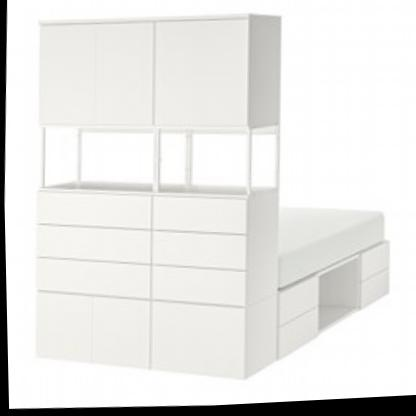Bed: (12, 0, 407, 407)
